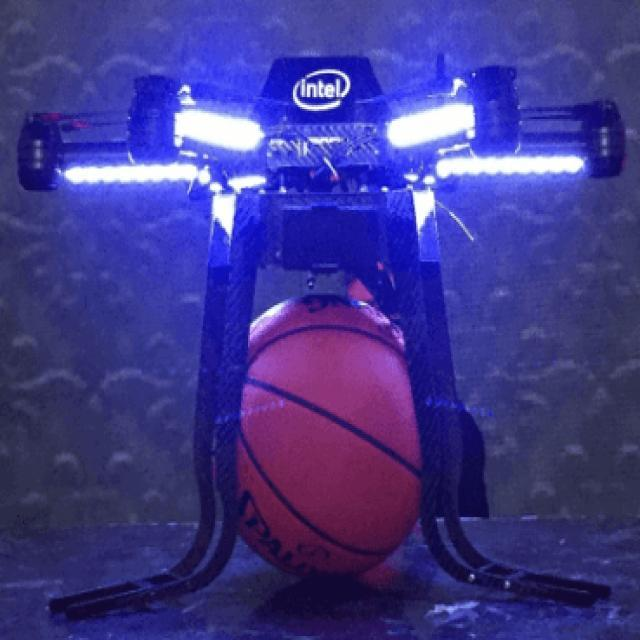drone: (26, 58, 640, 299)
